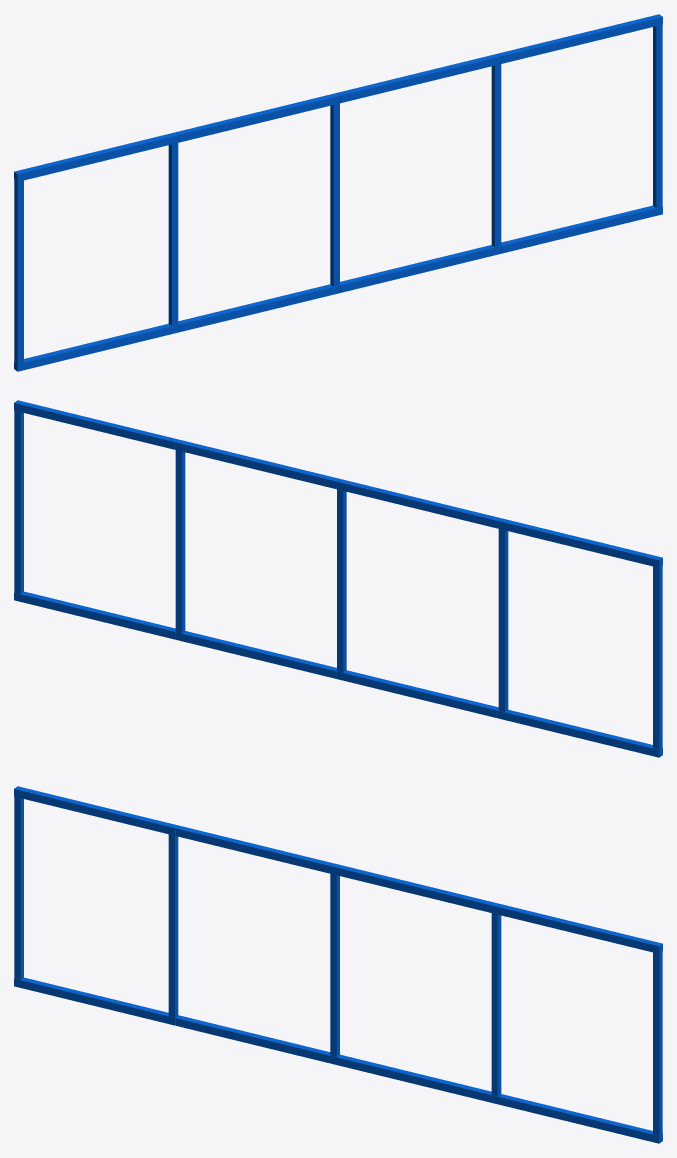
File: Warehouse_01_Window_S_02.fbx
3 views of the same model, one above another, from view 1: azimuth 30°, elevation 25°; view 2: azimuth 150°, elevation 25°; view 3: azimuth 330°, elevation 25° (orthographic).
Parts seen in each view (by area): view 1: Warehouse_01_Window_S_02; view 2: Warehouse_01_Window_S_02; view 3: Warehouse_01_Window_S_02.
Boxes of the visible parts, box(x1,y1,x2,y2) form: Warehouse_01_Window_S_02: box(14, 14, 662, 371); Warehouse_01_Window_S_02: box(14, 400, 662, 757); Warehouse_01_Window_S_02: box(14, 786, 662, 1143).
Size of the model in its own units: 1623 by 474 by 16.2.
